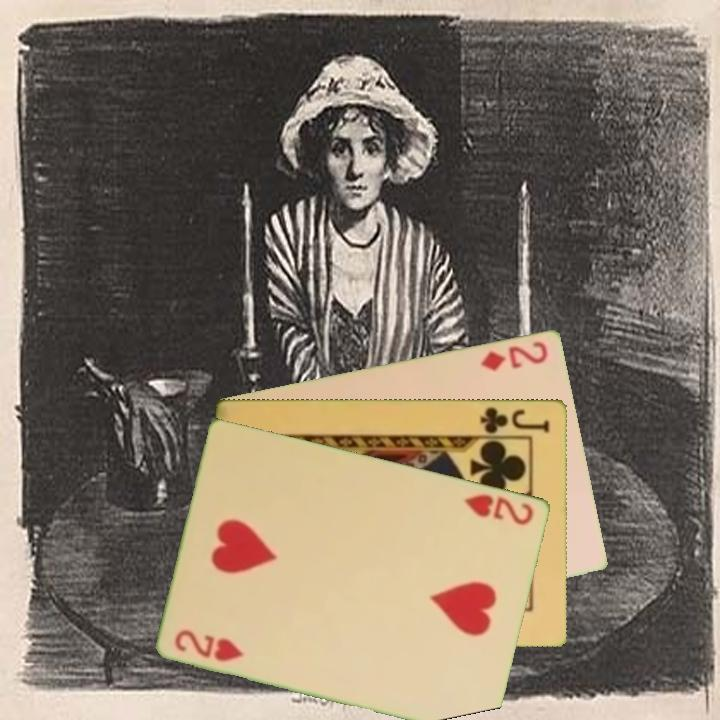2d: (477, 337, 551, 374)
2h: (171, 625, 247, 664), (461, 490, 537, 528)
Jc: (477, 403, 553, 436)
